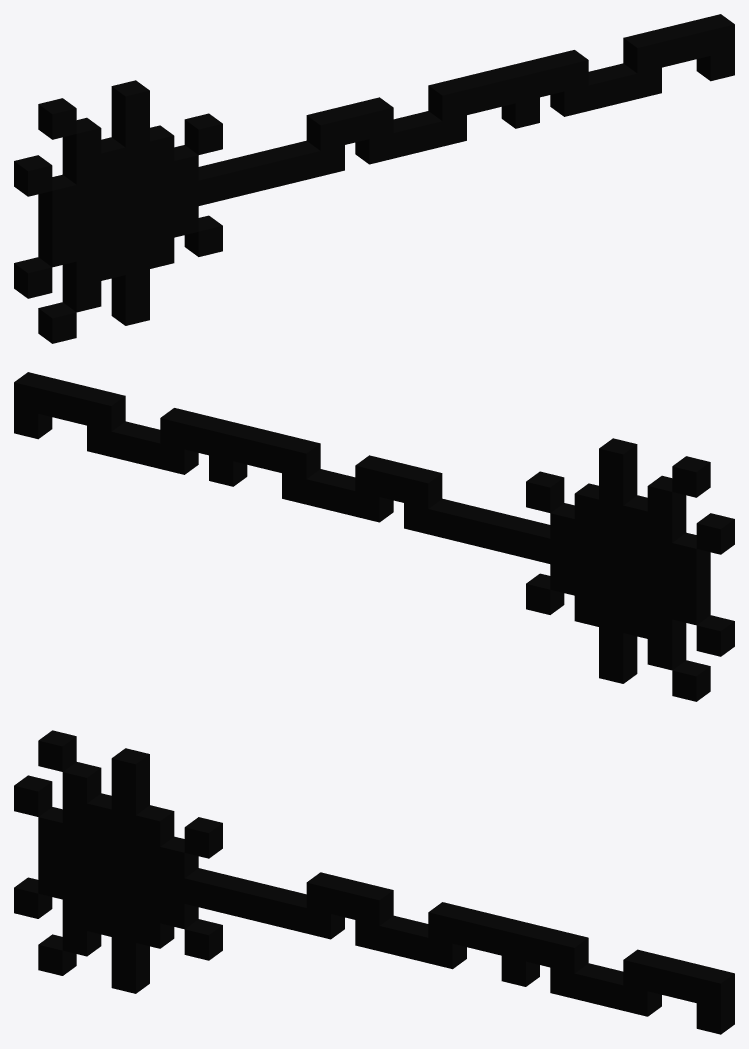
File: Gauge_Gore01_Empty.002.fbx
3 views of the same model, one above another, from view 1: azimuth 30°, elevation 25°; view 2: azimuth 150°, elevation 25°; view 3: azimuth 330°, elevation 25° (orthographic).
Parts seen in each view (by area): view 1: Gauge_Gore01_Empty.002; view 2: Gauge_Gore01_Empty.002; view 3: Gauge_Gore01_Empty.002.
Part boxes in pixels (x1,y1,x2,y2): Gauge_Gore01_Empty.002: [14, 14, 734, 343]; Gauge_Gore01_Empty.002: [14, 372, 734, 701]; Gauge_Gore01_Empty.002: [14, 730, 734, 1034].
Bounding box in the file's own units: 2.9 × 0.9 × 0.1.
